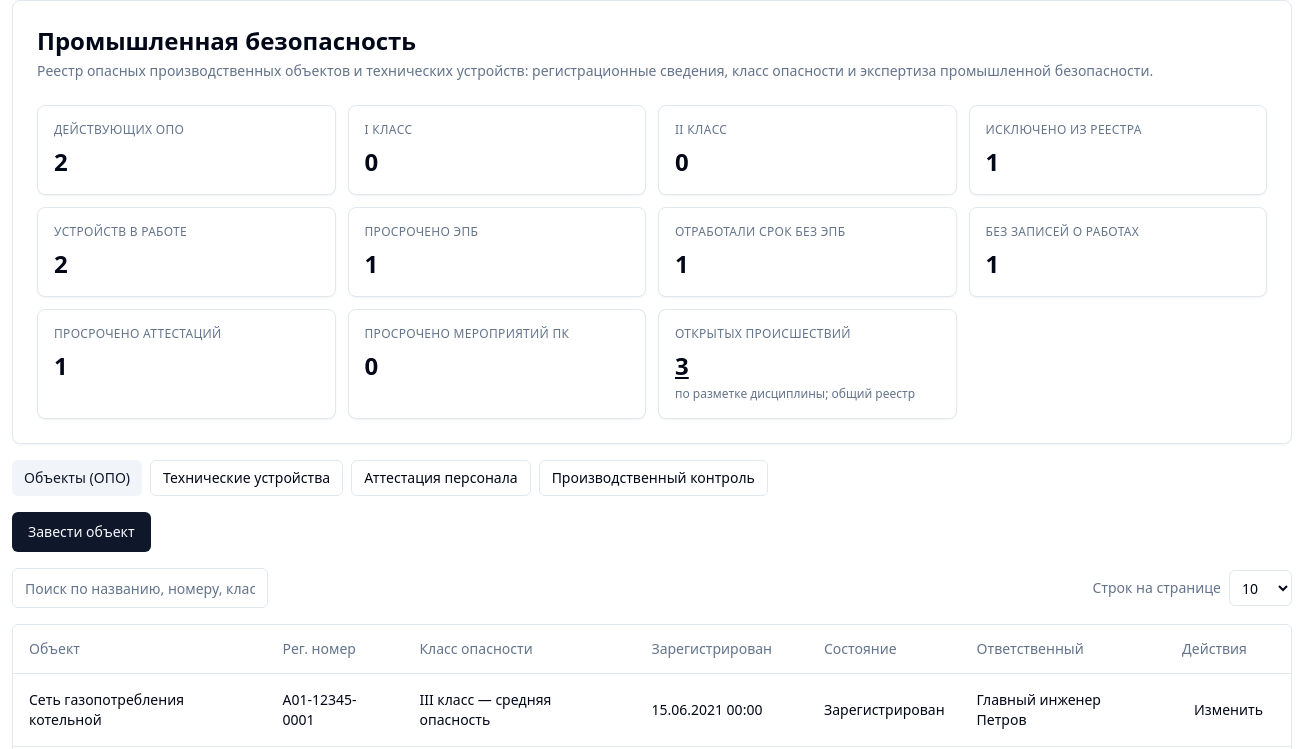
Test: IndustrialSafetyPage › экран не объявляет отсутствие плана ПК нарушением
Check: the text "Сеть газопотребления котельной" is shown, box x1=13 y1=673 x2=266 y2=746
Step 1. Click the button "Производственный контроль" → (653, 478), box x1=539 y1=460 x2=768 y2=496
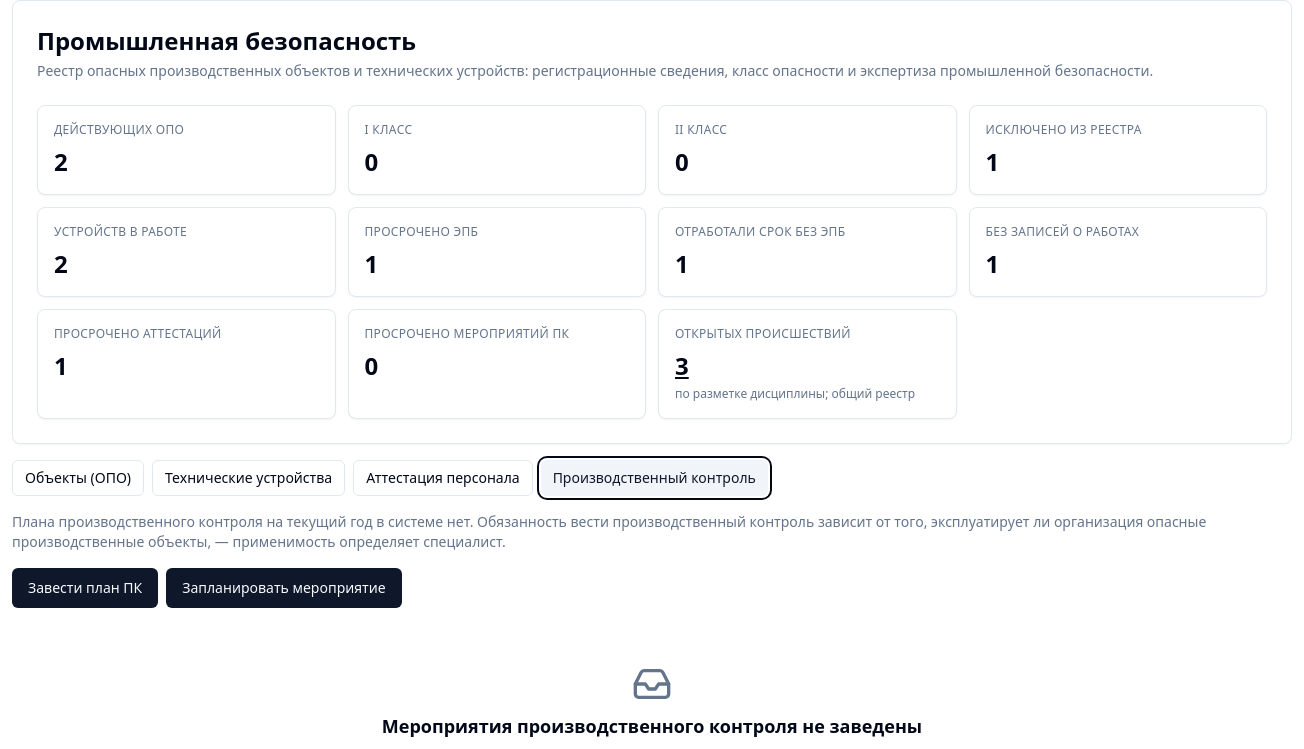
Check: the text "применимость определяет специалист" is shown, box x1=12 y1=512 x2=1206 y2=551
